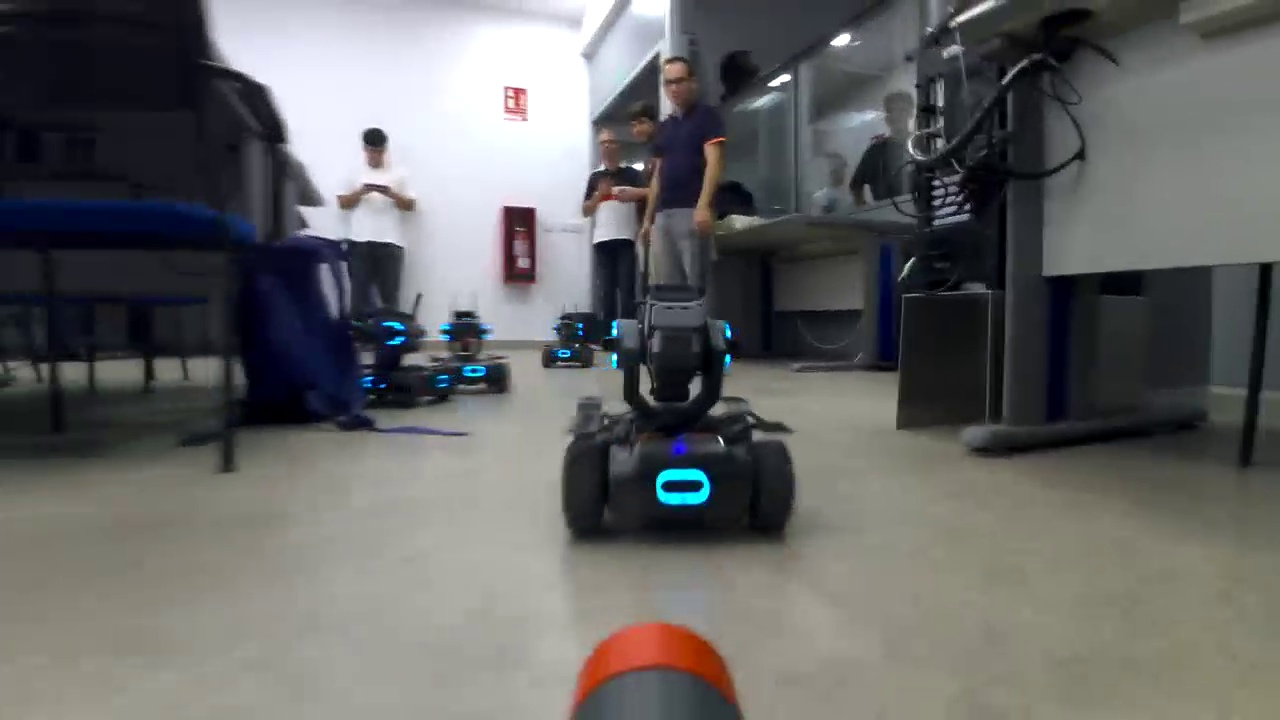robot: (554, 281, 802, 553), (341, 301, 459, 410), (427, 306, 515, 398), (538, 313, 594, 372)
